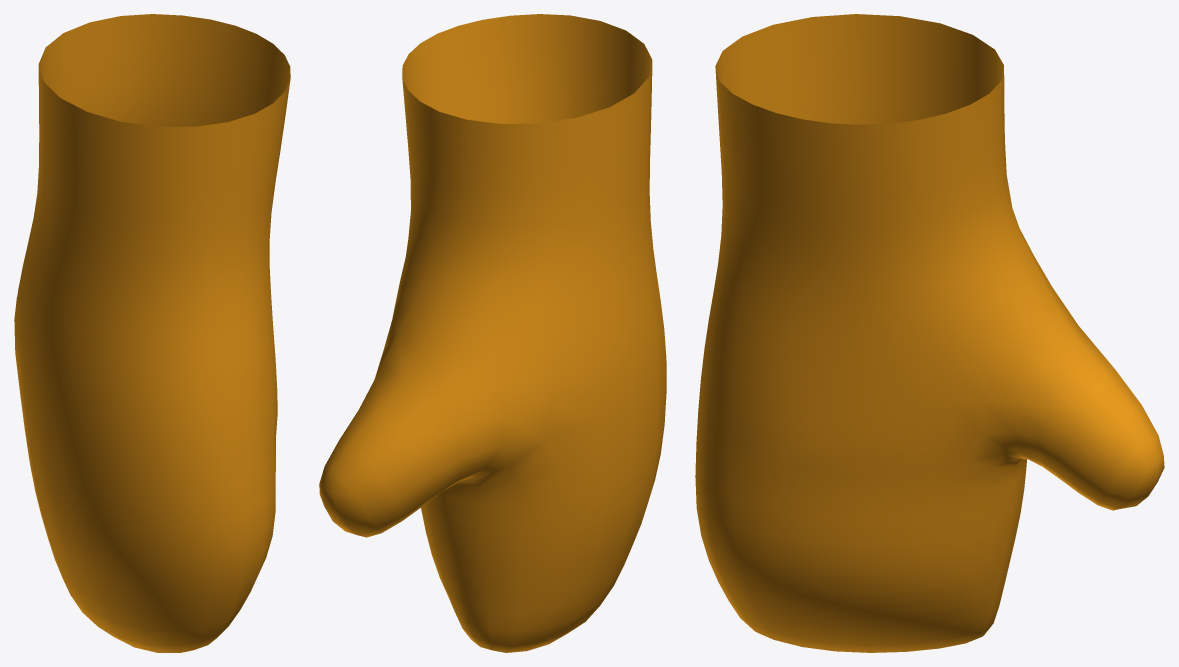
The model's file is Glove01.fbx.
The picture shows the model from 3 angles, left to right: view 1: azimuth 30°, elevation 25°; view 2: azimuth 150°, elevation 25°; view 3: azimuth 270°, elevation 25°; orthographic projection. The views are drawn at different scales.
Parts seen in each view (by area): view 1: Glove01; view 2: Glove01; view 3: Glove01.
Boxes of the visible parts, x1=… form: Glove01: x1=14, y1=14, x2=290, y2=652; Glove01: x1=319, y1=14, x2=666, y2=652; Glove01: x1=695, y1=14, x2=1164, y2=652.
Bounding box in the file's own units: 124 × 298 × 214.
